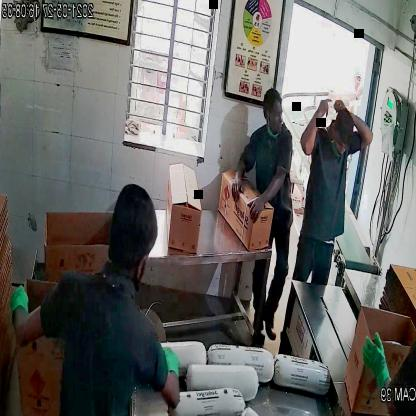no_goggles: (329, 134, 353, 154)
